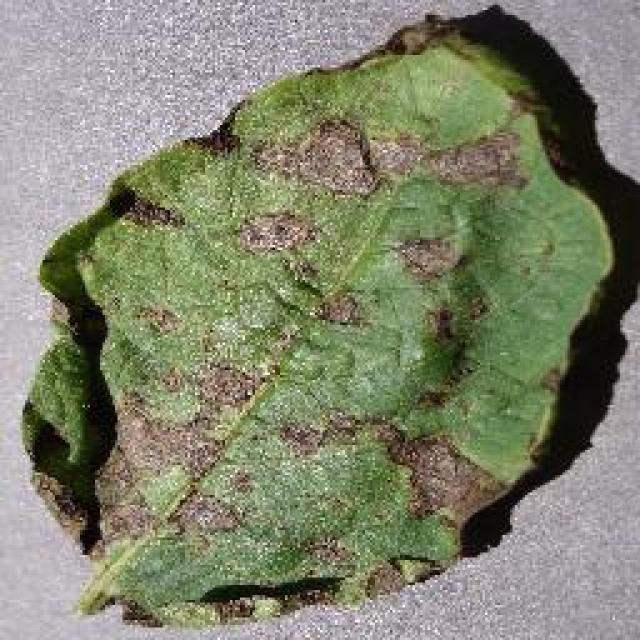green waste: (8, 32, 640, 621)
